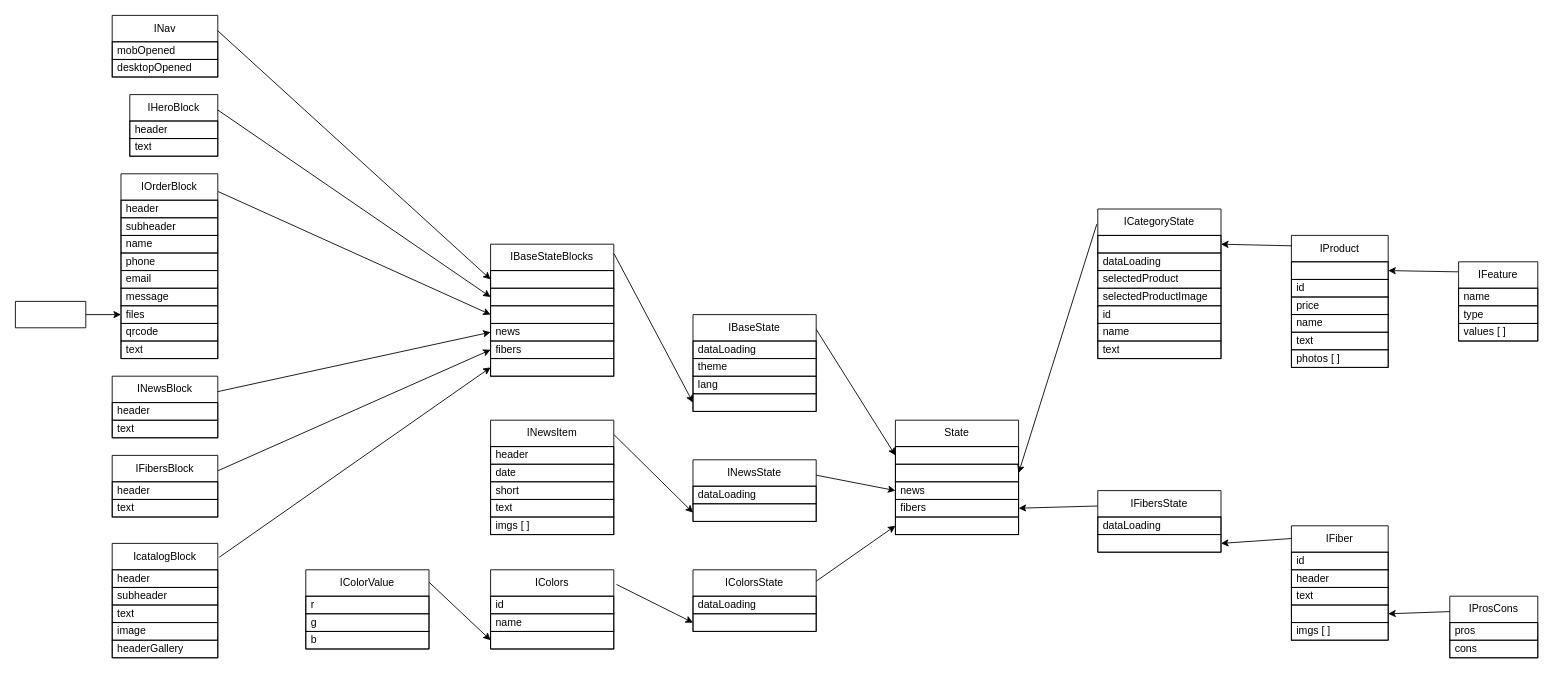
Some shapes in this 1553 by 673 pixel diagram are drawn without their labels. Here are the shapes that lost their labels. From the top down, the centre of each, then its label:
At point (1159, 244): "products".
At point (552, 279): "nav".
At point (1339, 270): "features".
At point (50, 314): "filesList [ ]".
At point (552, 296): "hero".
At point (552, 314): "order".
At point (552, 367): "catalog".
At point (754, 402): "blocks".
At point (957, 455): "base".
At point (957, 472): "category".
At point (754, 512): "news [ ]".
At point (957, 525): "colors".
At point (1159, 543): "fibersList [ ]".
At point (754, 622): "colors [ ]".
At point (1339, 613): "proscons".
At point (552, 640): "value".
